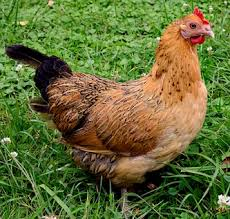chicken: (1, 2, 222, 202)
